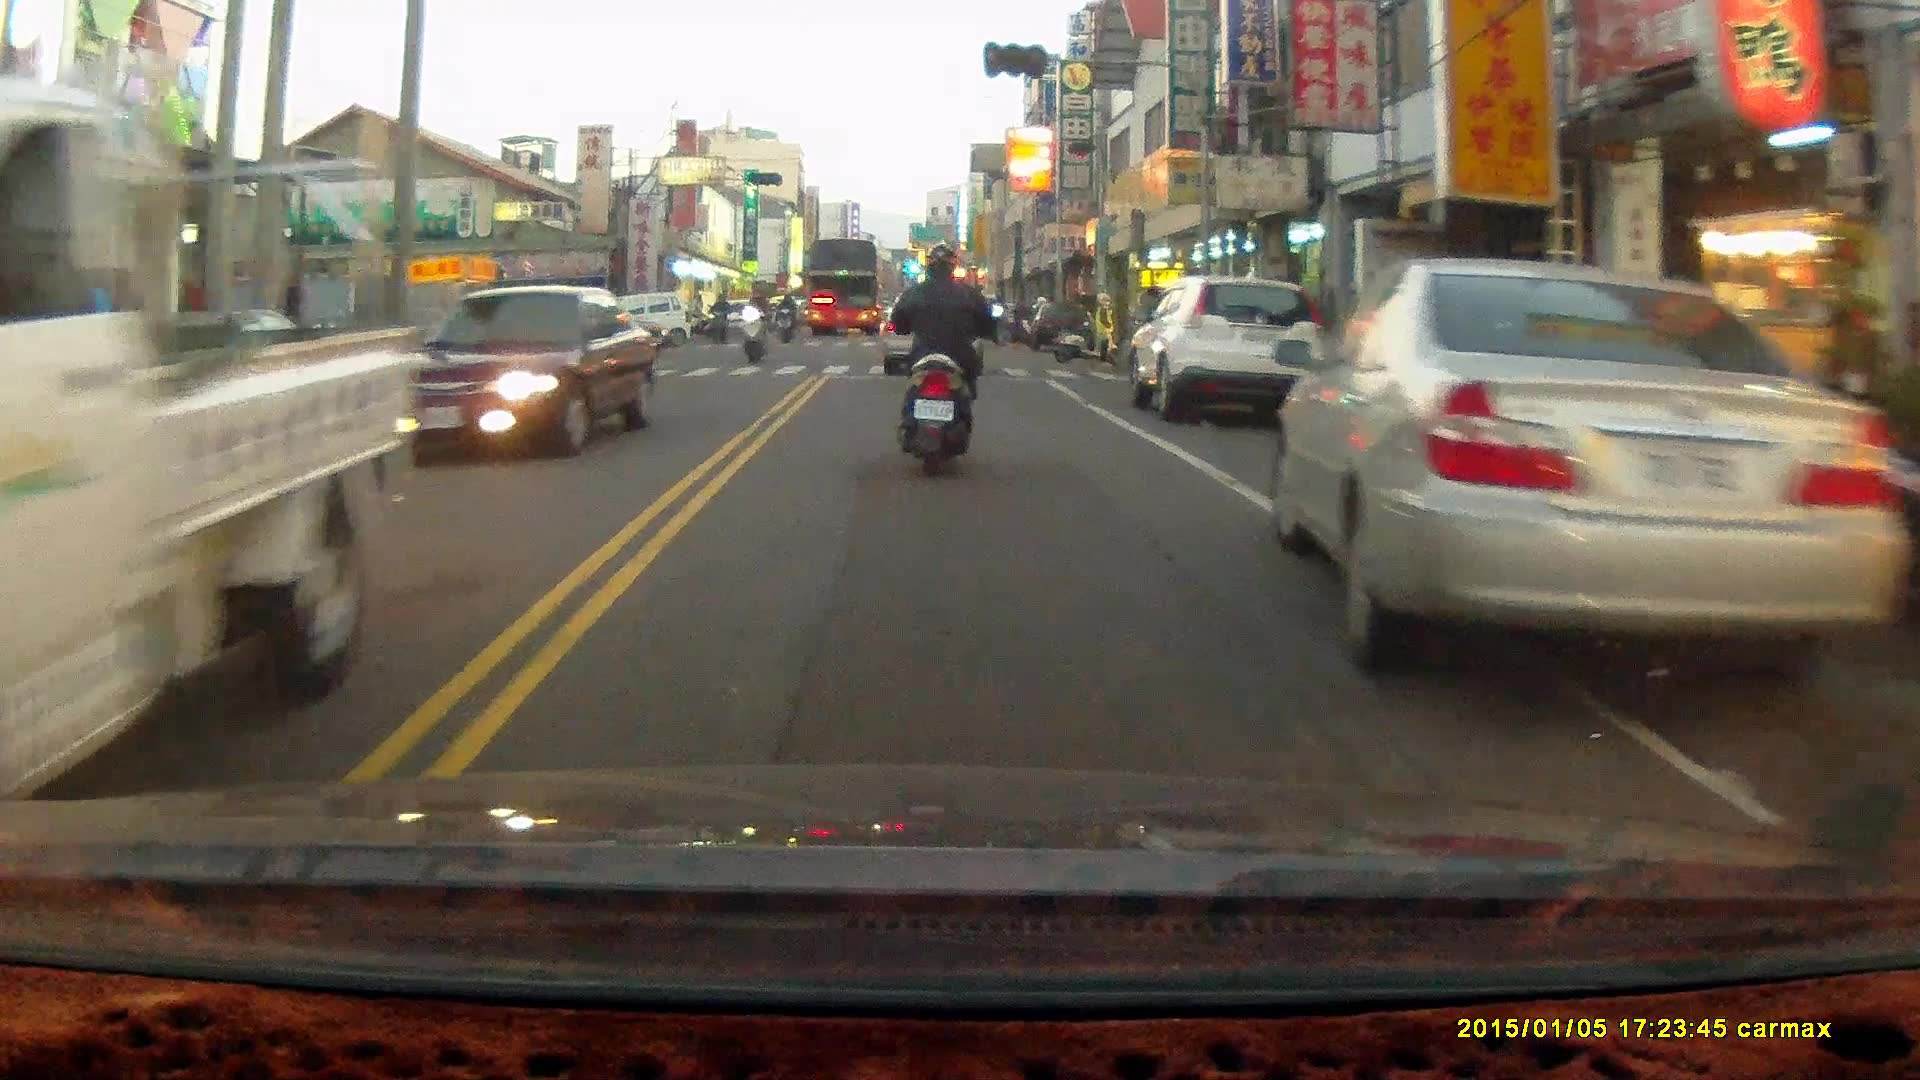pedestrian: (1091, 289, 1116, 367)
rider: (885, 242, 1004, 478), (738, 284, 769, 363), (776, 289, 796, 348), (707, 290, 729, 345)
vehicle: (1, 78, 418, 799), (1272, 258, 1915, 679), (357, 284, 667, 469), (1133, 276, 1312, 421), (803, 241, 887, 339)
